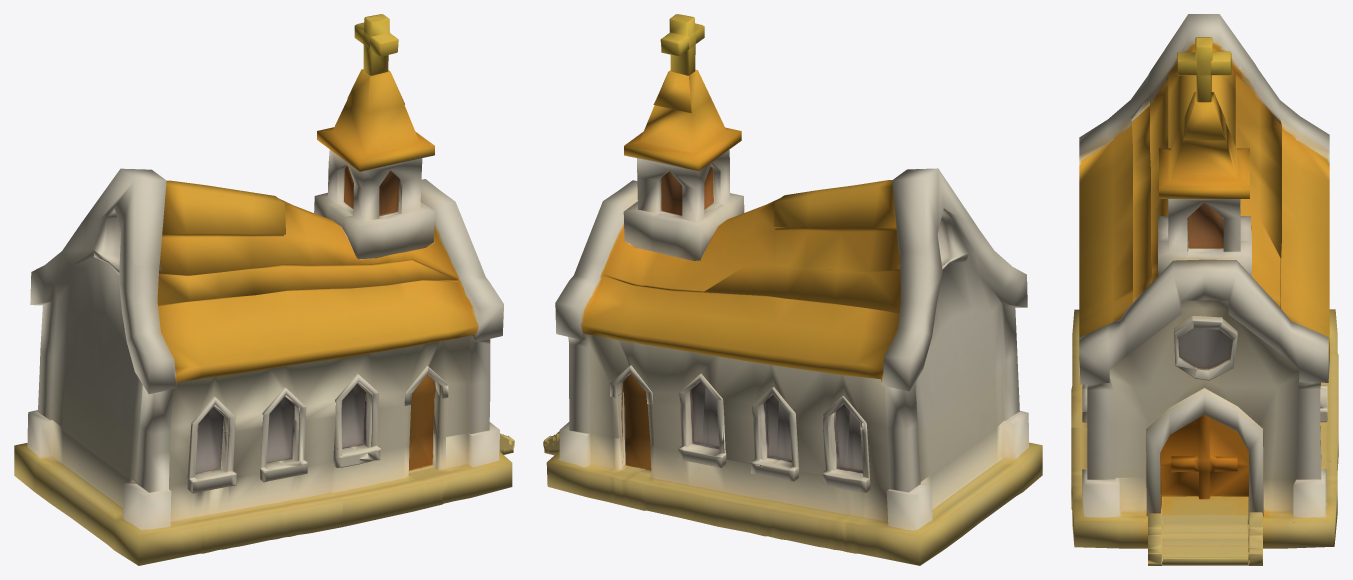
File: eglise.glb
3 renders of one model, left to right at view 1: azimuth 30°, elevation 25°; view 2: azimuth 150°, elevation 25°; view 3: azimuth 270°, elevation 25°, orthographic. The views are drawn at different scales.
Visible parts, largest first — view 1: tripo_node_2b06de4a-ecea-42f7-a888-de9f2b3bd8df; view 2: tripo_node_2b06de4a-ecea-42f7-a888-de9f2b3bd8df; view 3: tripo_node_2b06de4a-ecea-42f7-a888-de9f2b3bd8df.
Part boxes in pixels (x1,y1,x2,y2): tripo_node_2b06de4a-ecea-42f7-a888-de9f2b3bd8df: (14,14,514,565); tripo_node_2b06de4a-ecea-42f7-a888-de9f2b3bd8df: (543,14,1042,565); tripo_node_2b06de4a-ecea-42f7-a888-de9f2b3bd8df: (1071,14,1338,565).
Bounding box in the file's own units: 0.2941 × 0.3 × 0.1556.
1 material, 1 textured.
